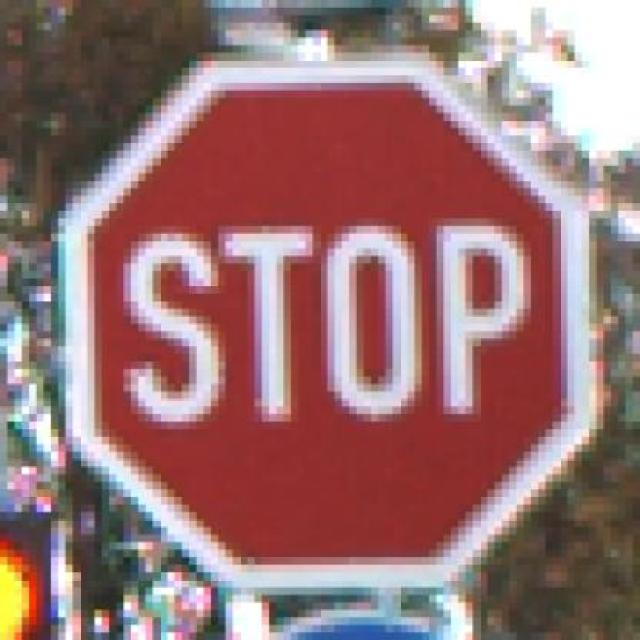Stop_Sign: (43, 52, 619, 625)
